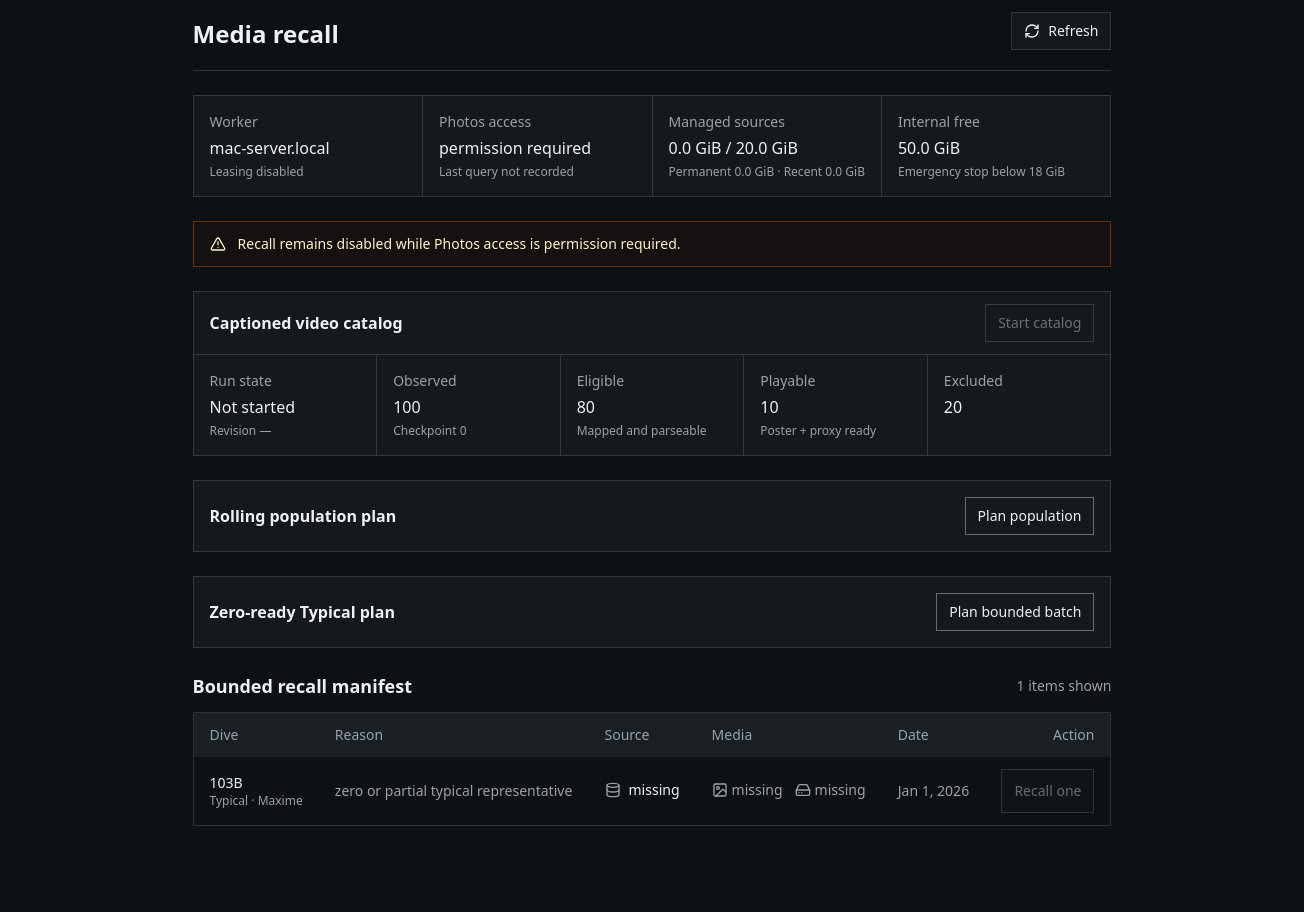
MediaRecall › shows a storage-blocked dry-run population plan without creating media
The image size is (1304, 912).
Click the button "Plan population": [1030, 516] box [965,497,1094,535]
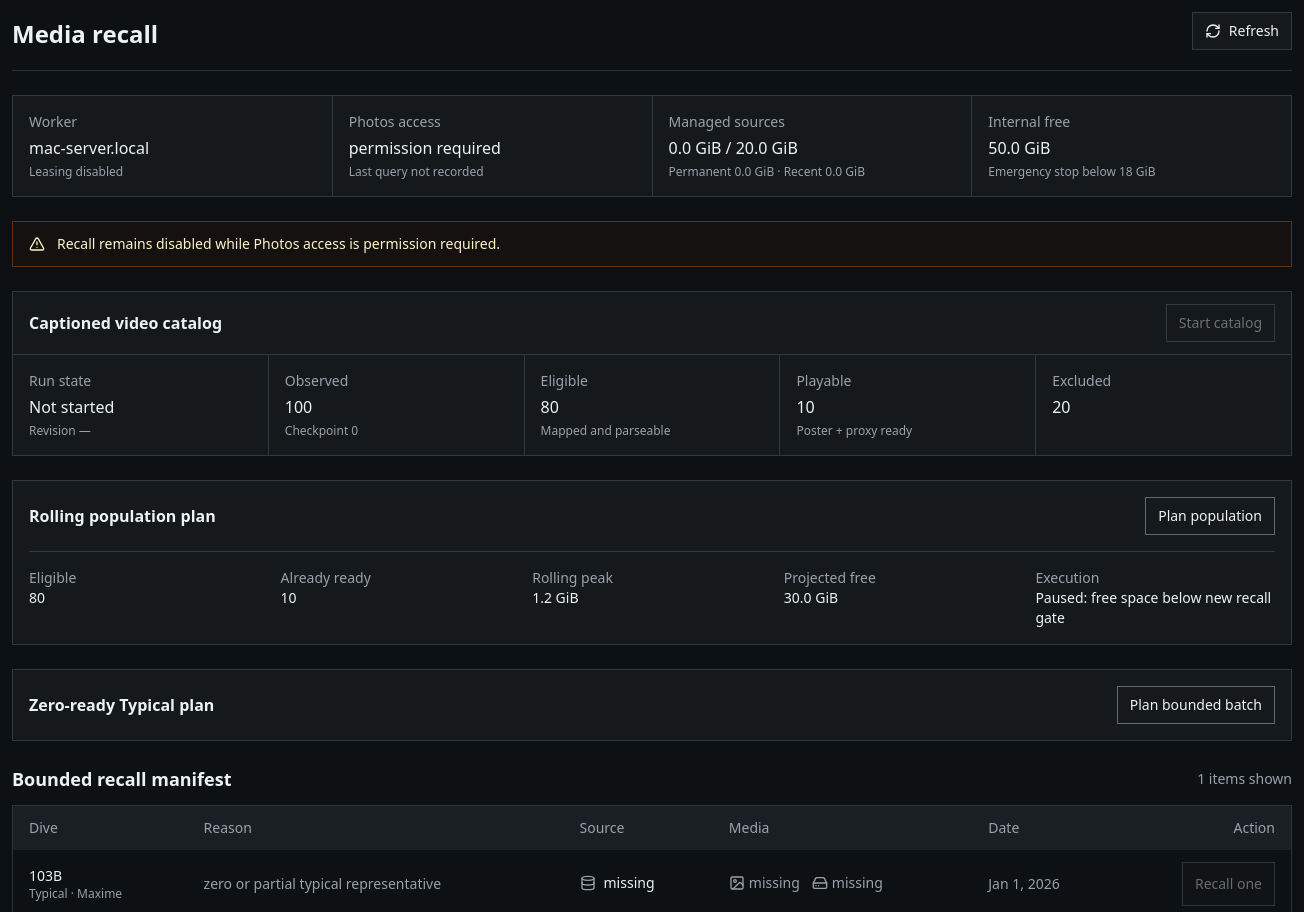
Expected: the text "Paused: free space below new recall gate" is shown, [1035,588,1275,628]
